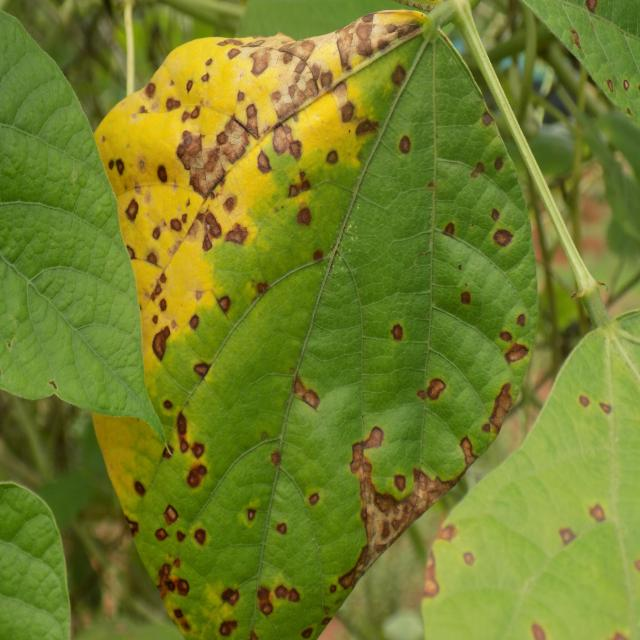Dolicos bean_cercospora leaf spot: (69, 7, 542, 640)
